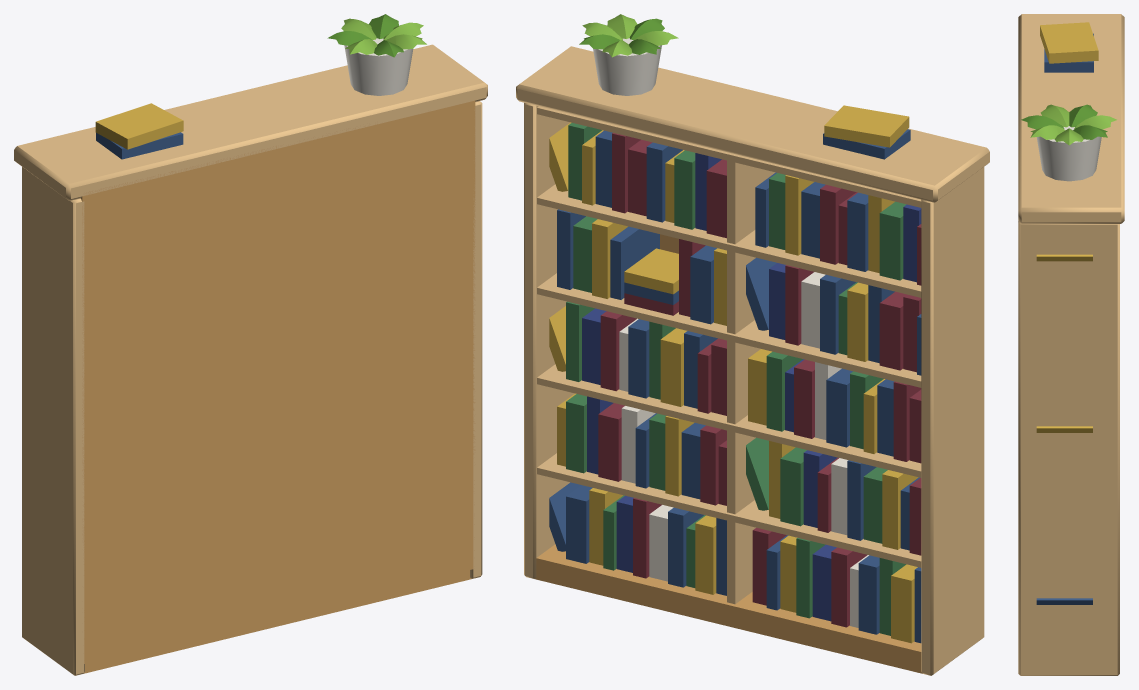
The model's file is bookshelf_v2.glb.
The picture shows the model from 3 angles, left to right: view 1: azimuth 30°, elevation 25°; view 2: azimuth 150°, elevation 25°; view 3: azimuth 270°, elevation 25°; orthographic projection. The views are drawn at different scales.
Visible parts, largest first — view 1: body; view 2: body; view 3: body.
Boxes of the visible parts, left/top/right/bottom form: body: left=14, top=14, right=487, bottom=675; body: left=516, top=14, right=989, bottom=675; body: left=1018, top=14, right=1124, bottom=675.
Size of the model in its own units: 2.06 by 2.55 by 0.47.
